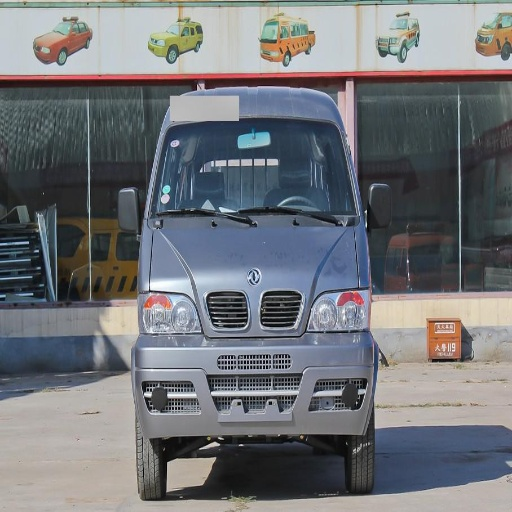front_bumper: (136, 288, 372, 436)
front_right_light: (140, 289, 198, 334)
hood: (157, 214, 359, 303)
